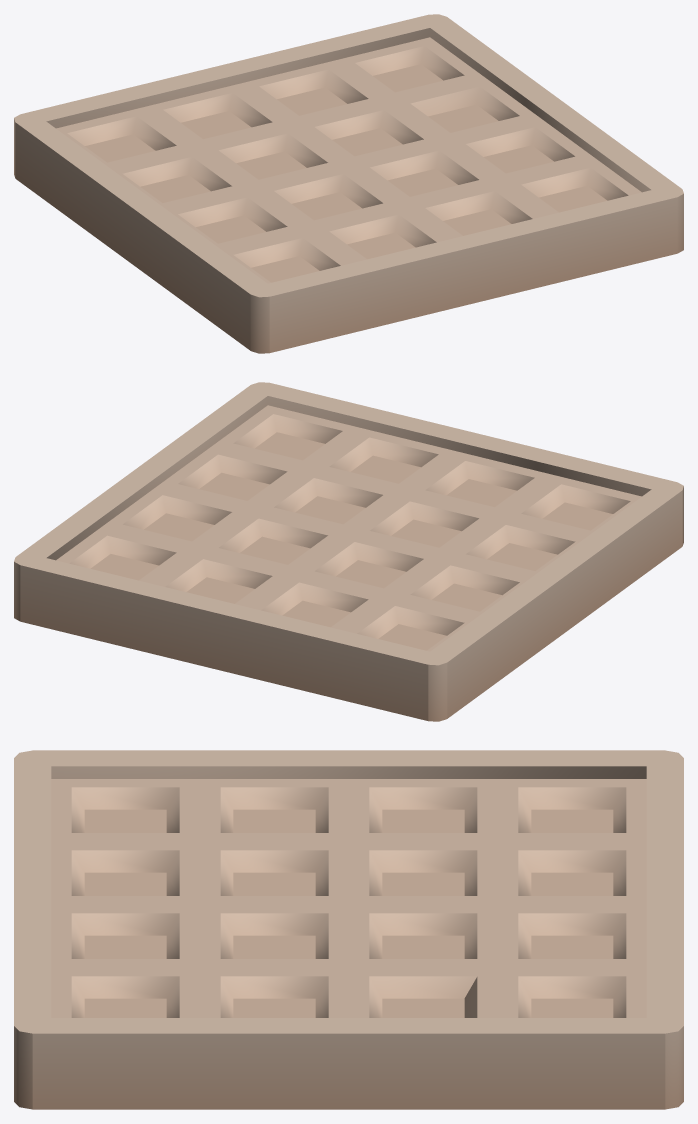
The model's file is waffle.glb.
The picture shows the model from 3 angles, top to bottom: view 1: azimuth 30°, elevation 25°; view 2: azimuth 150°, elevation 25°; view 3: azimuth 270°, elevation 25°; orthographic projection. The views are drawn at different scales.
Visible parts, largest first — view 1: waffle; view 2: waffle; view 3: waffle.
Part boxes in pixels (bbox=[...]): waffle: bbox=[14, 14, 683, 353]; waffle: bbox=[14, 382, 683, 721]; waffle: bbox=[14, 750, 683, 1109].
Size of the model in its own units: 0.3204 by 0.04 by 0.3204.
